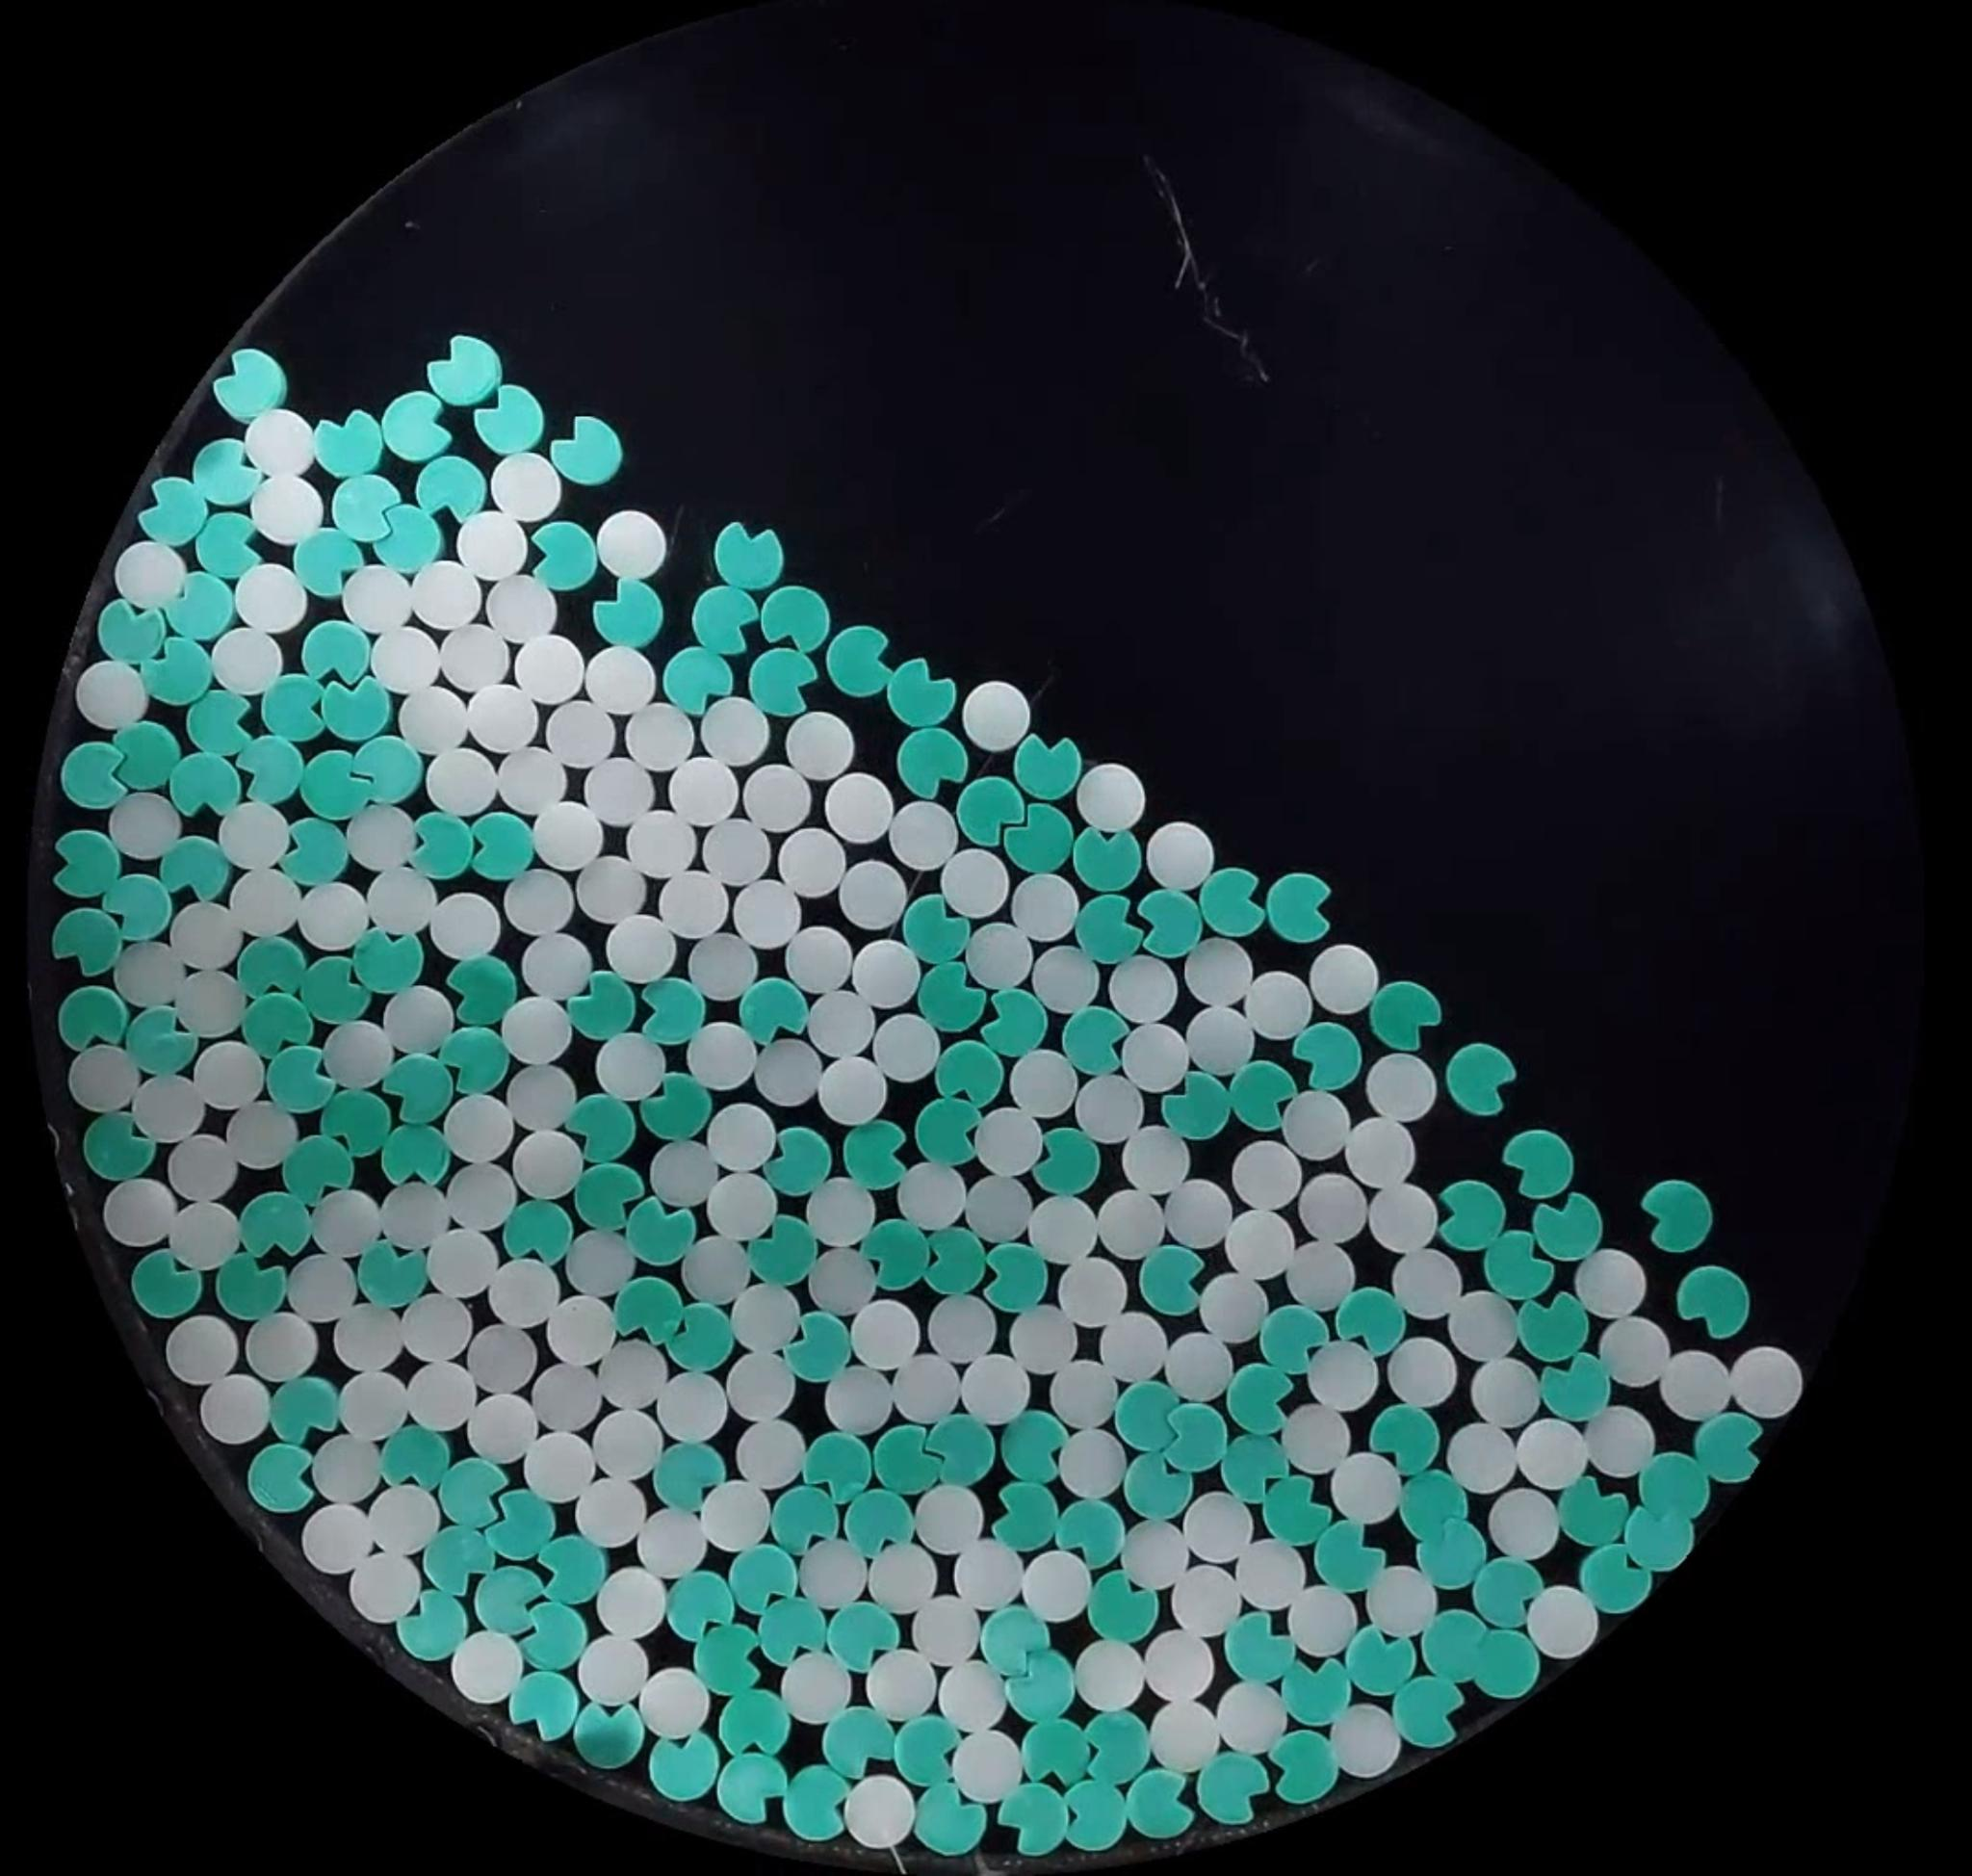no-convexa1: (114, 1002, 206, 1083), (81, 1112, 166, 1194), (923, 1215, 993, 1309), (185, 507, 273, 580), (868, 1420, 946, 1501), (761, 1483, 843, 1559), (319, 1083, 398, 1161), (1224, 1614, 1308, 1686), (484, 1483, 558, 1564), (1116, 1450, 1199, 1522), (431, 1451, 507, 1529), (653, 1437, 731, 1513), (981, 1599, 1055, 1679), (1113, 1377, 1187, 1457), (620, 1200, 701, 1272), (1055, 1488, 1127, 1569), (998, 1652, 1079, 1725), (1674, 1265, 1750, 1341), (426, 335, 504, 409), (431, 1027, 512, 1097), (1477, 1230, 1558, 1300), (549, 414, 625, 488), (1502, 1127, 1576, 1201), (254, 669, 327, 743), (673, 1573, 748, 1645), (861, 1215, 933, 1291), (988, 1480, 1060, 1555), (1396, 1469, 1468, 1545), (153, 837, 234, 904), (380, 1053, 454, 1126), (100, 874, 174, 946), (167, 750, 241, 823), (268, 1374, 342, 1446), (1468, 1624, 1541, 1698), (445, 955, 518, 1029), (130, 1249, 202, 1323), (444, 953, 518, 1025), (1370, 979, 1442, 1053), (1692, 1411, 1766, 1483), (303, 956, 377, 1029), (715, 1753, 787, 1827), (1313, 1518, 1384, 1594), (1419, 1515, 1490, 1591), (924, 1411, 993, 1488), (998, 1409, 1067, 1487), (1231, 1360, 1299, 1437), (1196, 1754, 1268, 1827), (648, 1732, 720, 1804), (613, 1275, 685, 1348), (998, 1783, 1071, 1855), (299, 749, 372, 821), (914, 1784, 986, 1857), (246, 1441, 319, 1513), (896, 726, 968, 798), (349, 736, 421, 809), (1641, 1180, 1713, 1252), (565, 971, 637, 1043), (53, 905, 125, 978), (51, 828, 123, 900), (1446, 1043, 1518, 1115), (1261, 1305, 1333, 1377), (280, 1134, 354, 1205), (1268, 1732, 1338, 1806), (782, 1765, 850, 1841), (935, 1041, 1012, 1108), (1231, 1053, 1296, 1133), (1086, 1571, 1157, 1643), (1282, 1654, 1352, 1726), (234, 735, 306, 805), (518, 1598, 588, 1670), (727, 1543, 798, 1615), (843, 1485, 914, 1557), (394, 1591, 467, 1661), (757, 1594, 828, 1666), (509, 1668, 579, 1740), (352, 925, 424, 995), (141, 636, 213, 706), (467, 810, 537, 883), (1394, 1675, 1465, 1747), (215, 1251, 287, 1321), (215, 347, 287, 417), (572, 1700, 644, 1770), (333, 474, 405, 544), (319, 676, 391, 747), (901, 891, 972, 964), (1083, 1710, 1152, 1784), (695, 1621, 764, 1695), (472, 386, 546, 454), (1437, 1180, 1505, 1254), (542, 1533, 609, 1608), (831, 625, 898, 701), (1345, 1628, 1416, 1698), (718, 1689, 789, 1760), (1472, 1557, 1542, 1628), (416, 454, 486, 525), (747, 1214, 817, 1284), (828, 1601, 898, 1672), (1518, 1291, 1588, 1362), (574, 1161, 644, 1231), (502, 1198, 572, 1268), (1123, 1770, 1194, 1841), (1534, 1191, 1604, 1261), (109, 719, 180, 789), (715, 521, 785, 592), (1021, 1717, 1090, 1790), (639, 1073, 711, 1141), (667, 1302, 736, 1374), (241, 990, 313, 1059), (893, 1714, 961, 1786), (692, 583, 761, 655), (357, 1240, 430, 1309), (530, 521, 602, 590), (592, 580, 664, 648), (382, 1120, 454, 1189), (1085, 890, 1144, 972), (238, 932, 312, 999), (187, 682, 254, 756), (961, 773, 1028, 847), (1261, 1478, 1335, 1545), (1372, 1402, 1440, 1473), (801, 1430, 872, 1499), (264, 1045, 335, 1113), (916, 962, 986, 1030), (637, 978, 708, 1046), (1294, 1020, 1363, 1090), (1541, 1353, 1611, 1422), (292, 528, 363, 597), (60, 740, 129, 810), (1623, 1504, 1694, 1573), (886, 661, 956, 729), (1335, 1286, 1405, 1355), (382, 391, 451, 462), (739, 976, 808, 1046), (1581, 1543, 1652, 1612), (1639, 1453, 1708, 1524), (313, 410, 384, 479), (982, 985, 1051, 1055), (192, 442, 264, 509), (1063, 1002, 1130, 1075), (1218, 1436, 1291, 1503), (241, 1194, 315, 1259), (60, 985, 129, 1053), (1560, 1480, 1629, 1548), (303, 620, 372, 689), (1139, 1245, 1206, 1316), (1199, 867, 1266, 937), (822, 1709, 893, 1776), (759, 585, 829, 652), (1266, 872, 1333, 942), (1062, 1781, 1129, 1851), (137, 477, 208, 544), (569, 1094, 639, 1161), (1164, 1071, 1231, 1141), (278, 819, 350, 884), (1034, 1129, 1102, 1196), (914, 1097, 981, 1166), (408, 812, 475, 881), (982, 1244, 1049, 1312), (784, 1314, 850, 1383), (1004, 807, 1072, 874), (1074, 824, 1141, 893), (97, 599, 167, 664), (750, 646, 817, 713), (662, 646, 729, 713), (375, 504, 442, 571), (1016, 733, 1081, 801), (426, 1529, 497, 1592), (766, 1129, 833, 1194), (1167, 1402, 1232, 1469), (169, 572, 232, 639), (475, 1562, 539, 1628), (386, 1425, 445, 1494), (1146, 891, 1204, 960), (1421, 1619, 1484, 1677), (854, 1122, 909, 1185)
